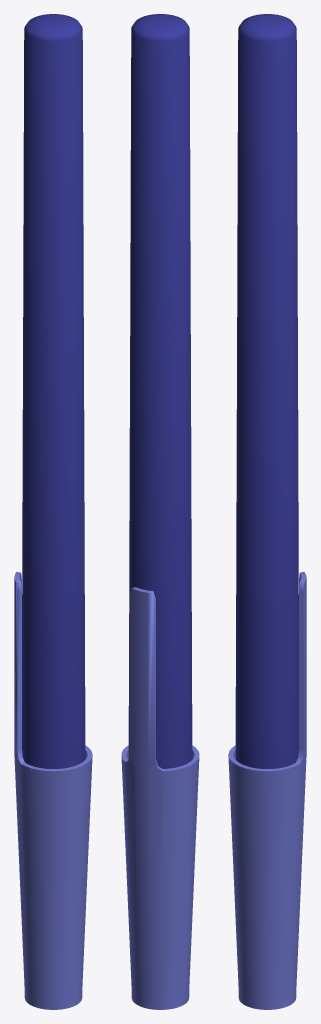
Rendered from PenCapped.fbx.
3 renders of one model, left to right at view 1: azimuth 90°, elevation 25°; view 2: azimuth 150°, elevation 25°; view 3: azimuth 270°, elevation 25°, orthographic.
Visible parts, largest first — view 1: Cylinder; view 2: Cylinder; view 3: Cylinder.
Part boxes in pixels (x1,y1,x2,y2): Cylinder: (14, 14, 92, 1009); Cylinder: (121, 14, 199, 1009); Cylinder: (228, 14, 306, 1009).
Bounding box in the file's own units: 0.6381 × 8.79 × 0.6381.
